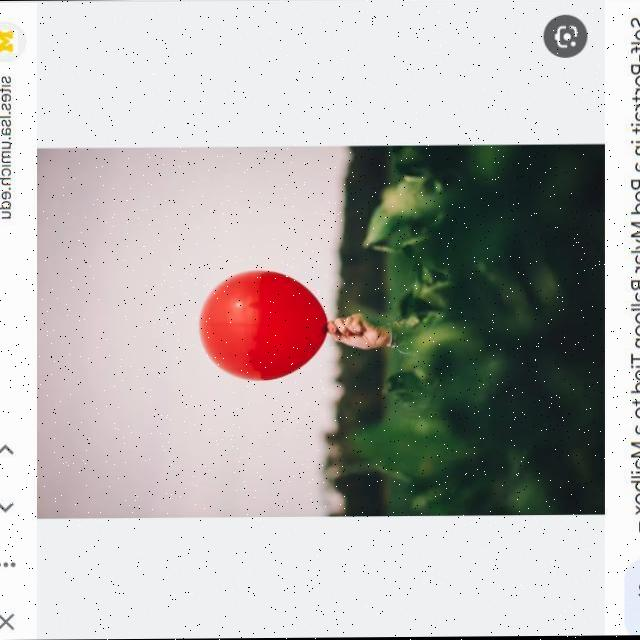balloon: (190, 268, 328, 375)
